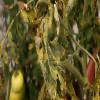Tomato Septoria leaf spot: (34, 3, 67, 99), (12, 3, 40, 25)
